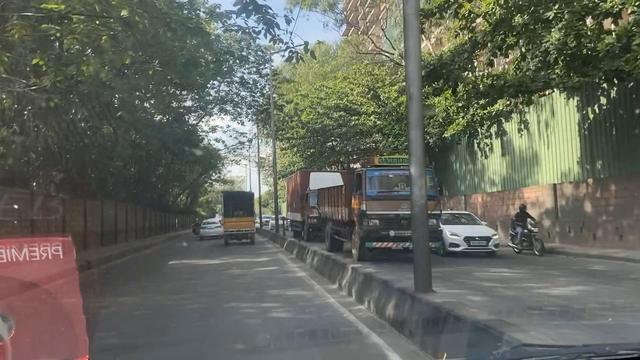HMV: (309, 150, 441, 258), (219, 183, 260, 249)
